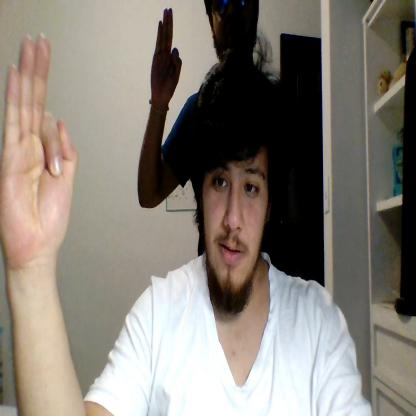F: (0, 33, 78, 261), (150, 7, 182, 103)
